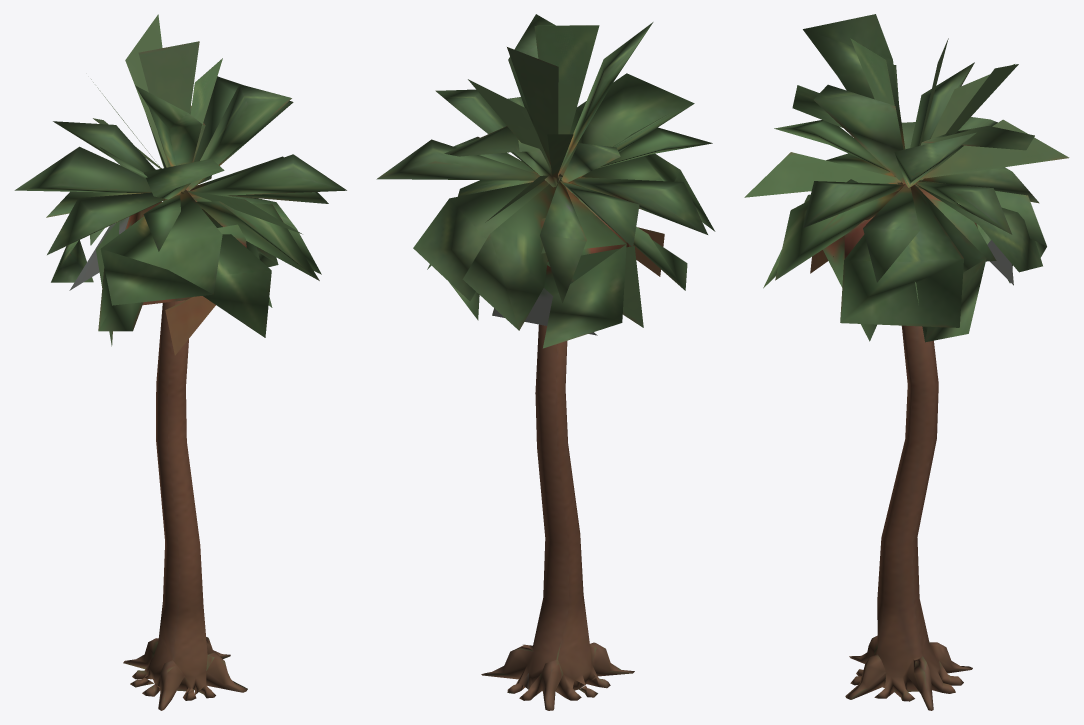
Rendered from tree-palm-01.glb.
3 renders of one model, left to right at view 1: azimuth 30°, elevation 25°; view 2: azimuth 150°, elevation 25°; view 3: azimuth 270°, elevation 25°, orthographic. The views are drawn at different scales.
Size of the model in its own units: 0.4395 by 0.9502 by 0.4404.
Materials: 1 (1 with a texture image).
